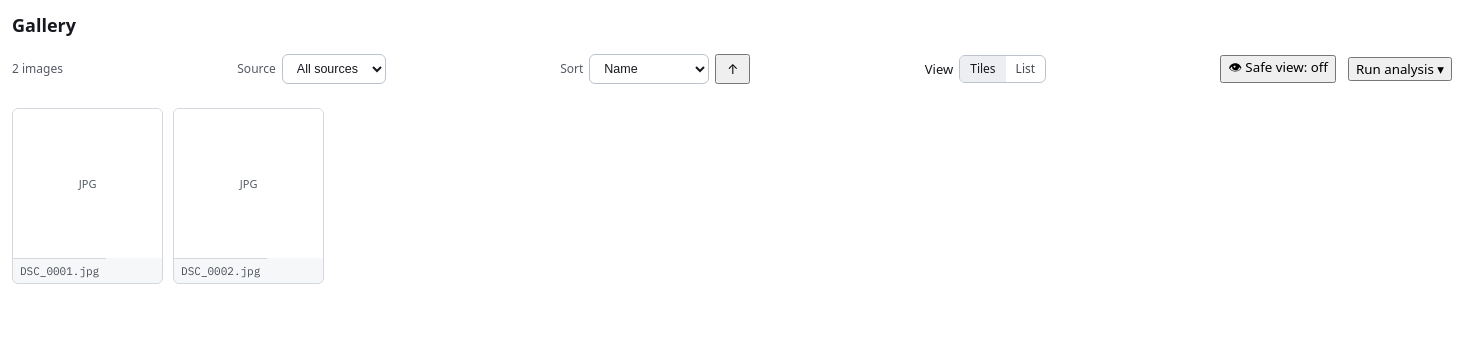
Test case: GalleryPage › shows previews unobscured by default, and turns Safe view on when asked
Expected: the text "DSC_0001.jpg" is shown, [13,258,106,283]
Click the button "👁 Safe view: off" at x=1278, y=69, box [1220,55,1336,83]
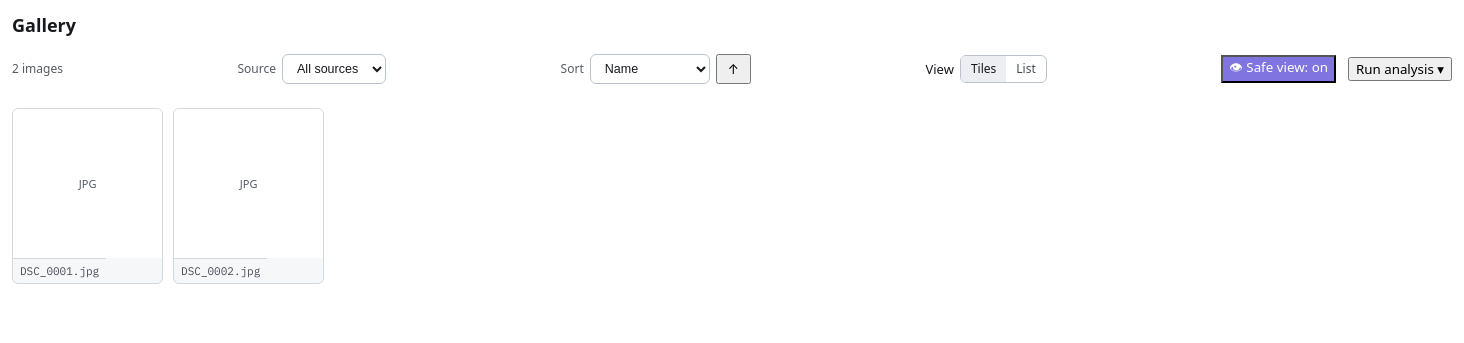
Result: the element with class "gl-safe-view" is shown
